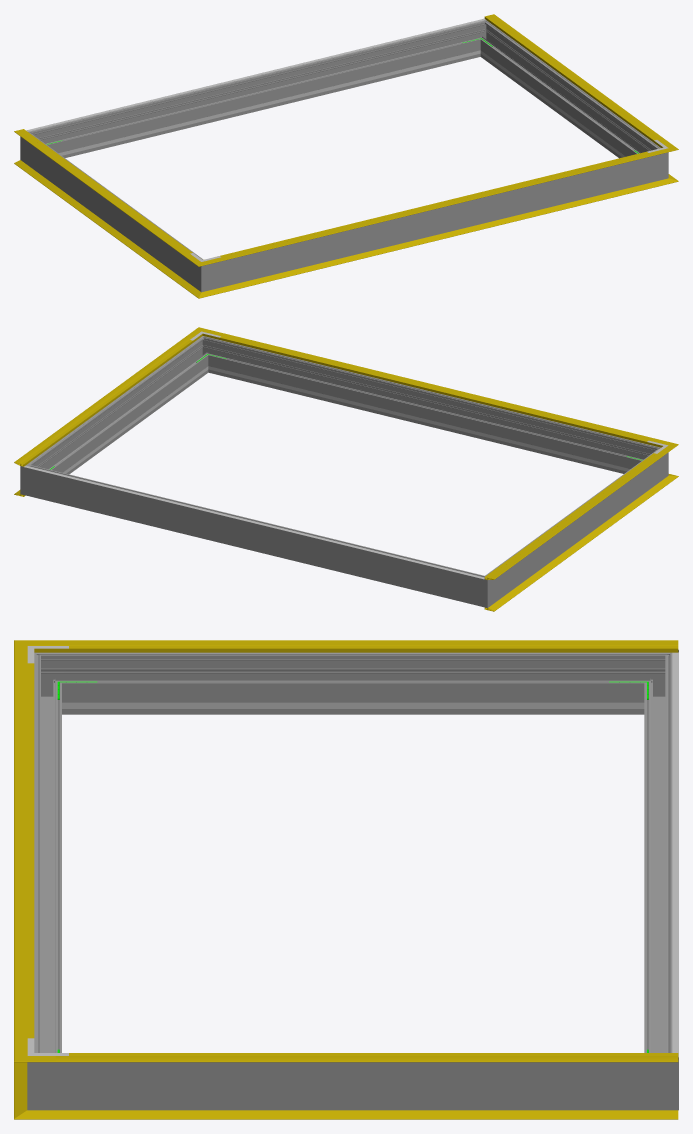
The picture shows the model from 3 angles, top to bottom: view 1: azimuth 30°, elevation 25°; view 2: azimuth 150°, elevation 25°; view 3: azimuth 270°, elevation 25°; orthographic projection. The views are drawn at different scales.
Visible parts, largest first — view 1: 3DGeom-276, 3DGeom-298, 3DGeom-297, 3DGeom-268, 3DGeom-28, 3DGeom-141, 3DGeom-145, 3DGeom-244, 3DGeom-38, 3DGeom-147, 3DGeom-220, 3DGeom-158 (+6 smaller); view 2: 3DGeom-298, 3DGeom-276, 3DGeom-297, 3DGeom-268, 3DGeom-141, 3DGeom-145, 3DGeom-239, 3DGeom-38, 3DGeom-147, 3DGeom-220, 3DGeom-158, 3DGeom-278 (+5 smaller); view 3: 3DGeom-268, 3DGeom-297, 3DGeom-276, 3DGeom-298, 3DGeom-147, 3DGeom-30, 3DGeom-141, 3DGeom-145, 3DGeom-232, 3DGeom-158, 3DGeom-220, 3DGeom-284 (+5 smaller).
Part boxes in pixels (x1=…): 3DGeom-276: x1=42, y1=24, x2=477, y2=157; 3DGeom-298: x1=221, y1=157, x2=648, y2=287; 3DGeom-297: x1=482, y1=27, x2=653, y2=158; 3DGeom-268: x1=31, y1=138, x2=195, y2=283; 3DGeom-28: x1=215, y1=181, x2=658, y2=293; 3DGeom-141: x1=215, y1=151, x2=658, y2=261; 3DGeom-145: x1=484, y1=14, x2=666, y2=144; 3DGeom-244: x1=66, y1=55, x2=461, y2=154; 3DGeom-38: x1=14, y1=160, x2=193, y2=289; 3DGeom-147: x1=14, y1=130, x2=193, y2=258; 3DGeom-220: x1=26, y1=18, x2=485, y2=131; 3DGeom-158: x1=220, y1=151, x2=647, y2=257; 3DGeom-298: x1=211, y1=340, x2=646, y2=473; 3DGeom-276: x1=40, y1=468, x2=471, y2=603; 3DGeom-297: x1=35, y1=343, x2=206, y2=474; 3DGeom-268: x1=493, y1=454, x2=657, y2=599; 3DGeom-141: x1=213, y1=332, x2=658, y2=445; 3DGeom-145: x1=14, y1=335, x2=196, y2=466; 3DGeom-239: x1=227, y1=371, x2=623, y2=470; 3DGeom-38: x1=484, y1=481, x2=666, y2=611; 3DGeom-147: x1=484, y1=451, x2=666, y2=579; 3DGeom-220: x1=24, y1=465, x2=484, y2=579; 3DGeom-158: x1=220, y1=336, x2=648, y2=441; 3DGeom-278: x1=467, y1=570, x2=499, y2=607; 3DGeom-268: x1=69, y1=652, x2=637, y2=714; 3DGeom-297: x1=69, y1=1062, x2=637, y2=1110; 3DGeom-276: x1=644, y1=667, x2=672, y2=1052; 3DGeom-298: x1=34, y1=667, x2=61, y2=1052; 3DGeom-147: x1=55, y1=640, x2=678, y2=652; 3DGeom-30: x1=55, y1=1110, x2=678, y2=1119; 3DGeom-141: x1=14, y1=657, x2=27, y2=1043; 3DGeom-145: x1=55, y1=1056, x2=678, y2=1062; 3DGeom-232: x1=102, y1=702, x2=604, y2=708; 3DGeom-158: x1=27, y1=663, x2=34, y2=1038; 3DGeom-220: x1=672, y1=652, x2=678, y2=1057; 3DGeom-284: x1=637, y1=1042, x2=678, y2=1110.
Bounding box in the file's own units: 3.66 × 0.2357 × 2.44.
